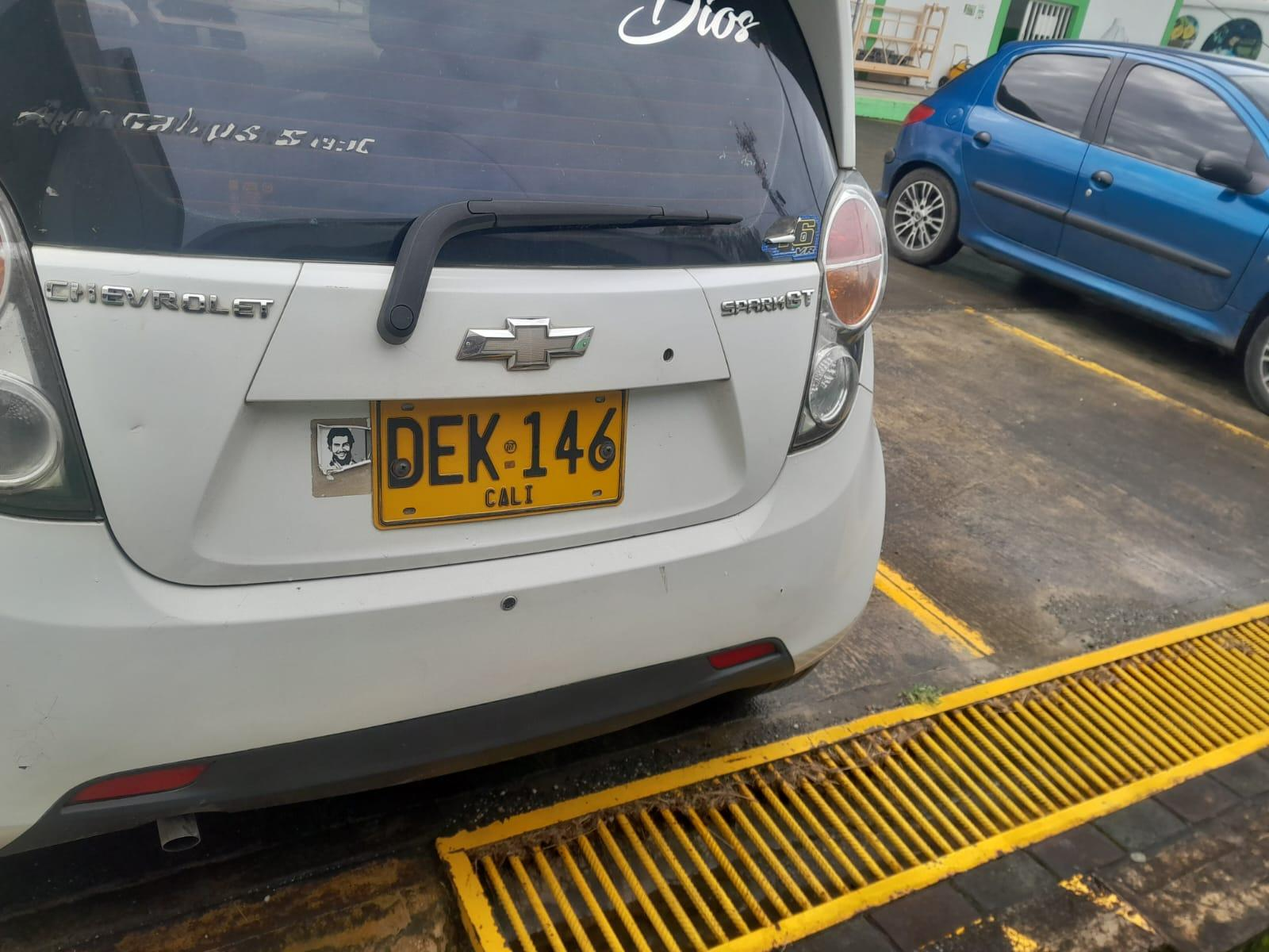placa: (371, 391, 627, 528)
